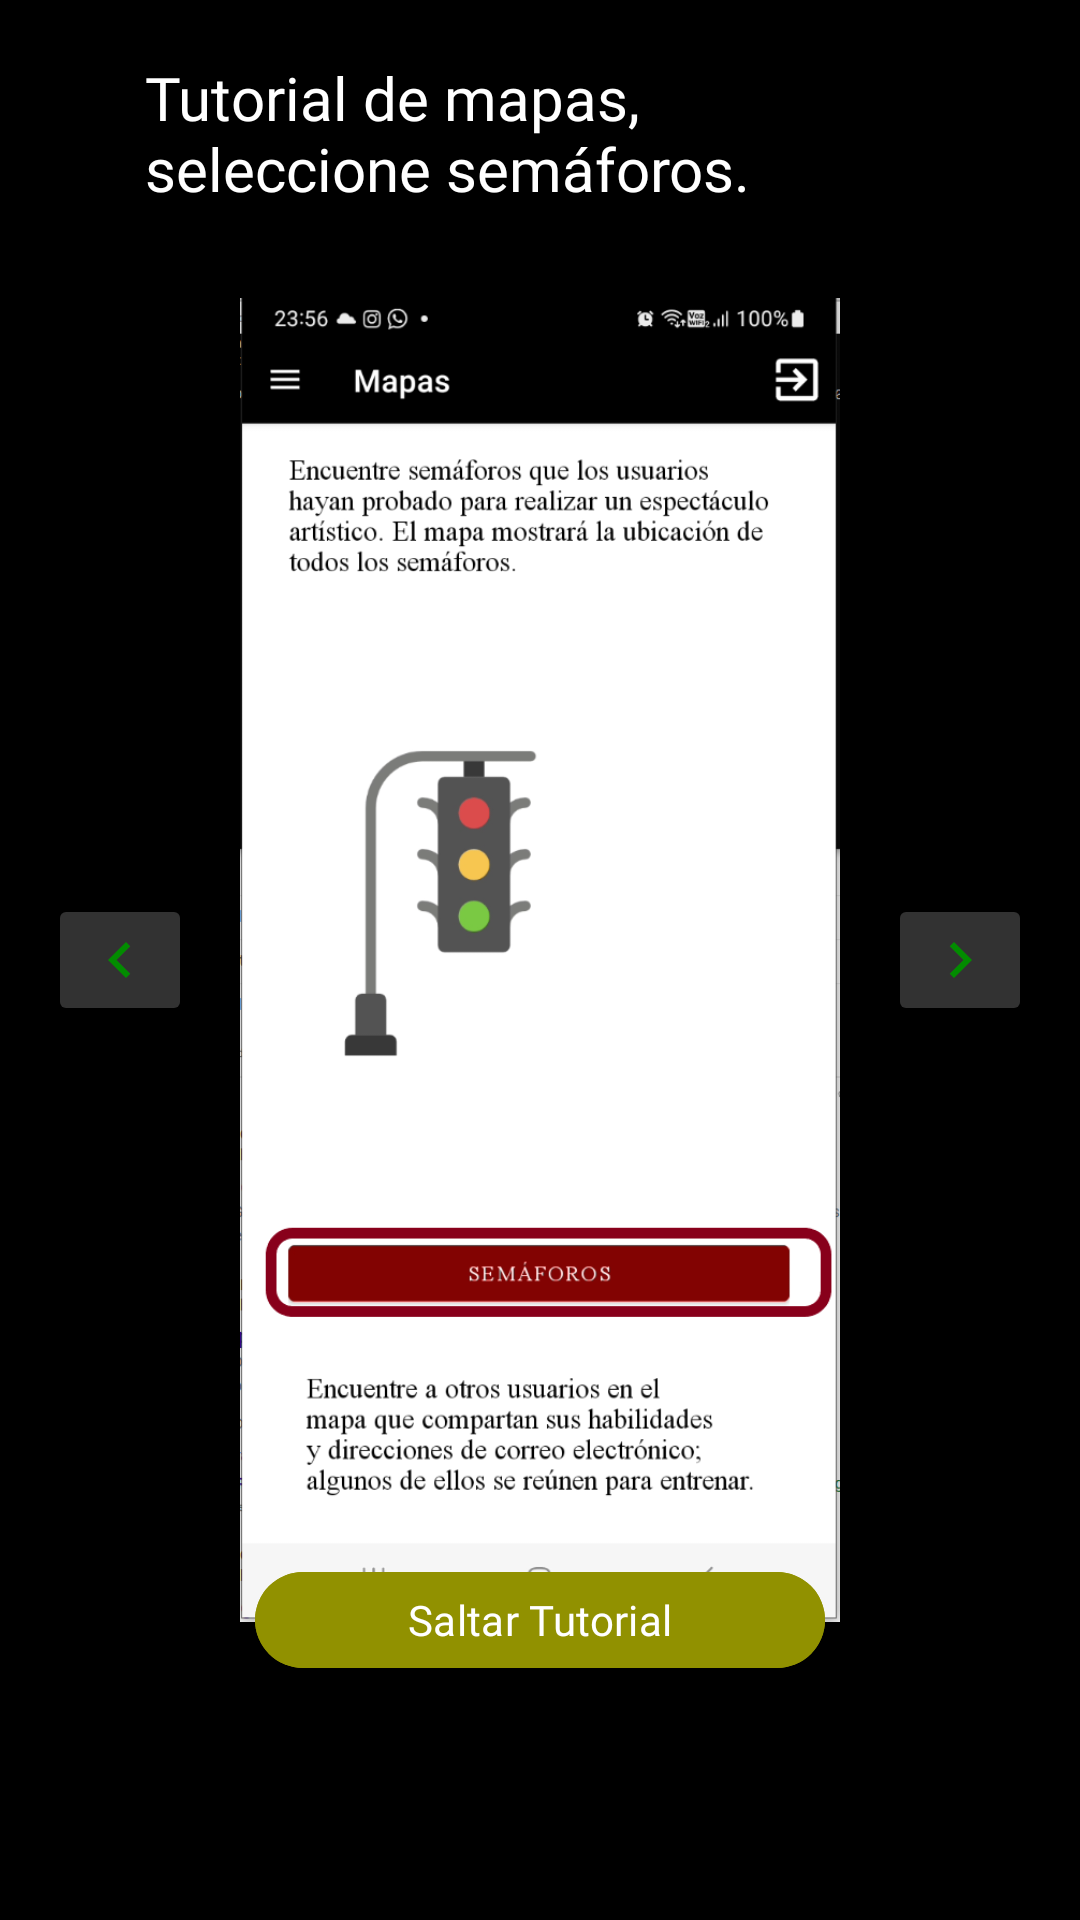

Where to tap for icons on this 1080x1920 app screen, as (x,y):
Anterior: (120,960)
Siguiente: (960,960)
